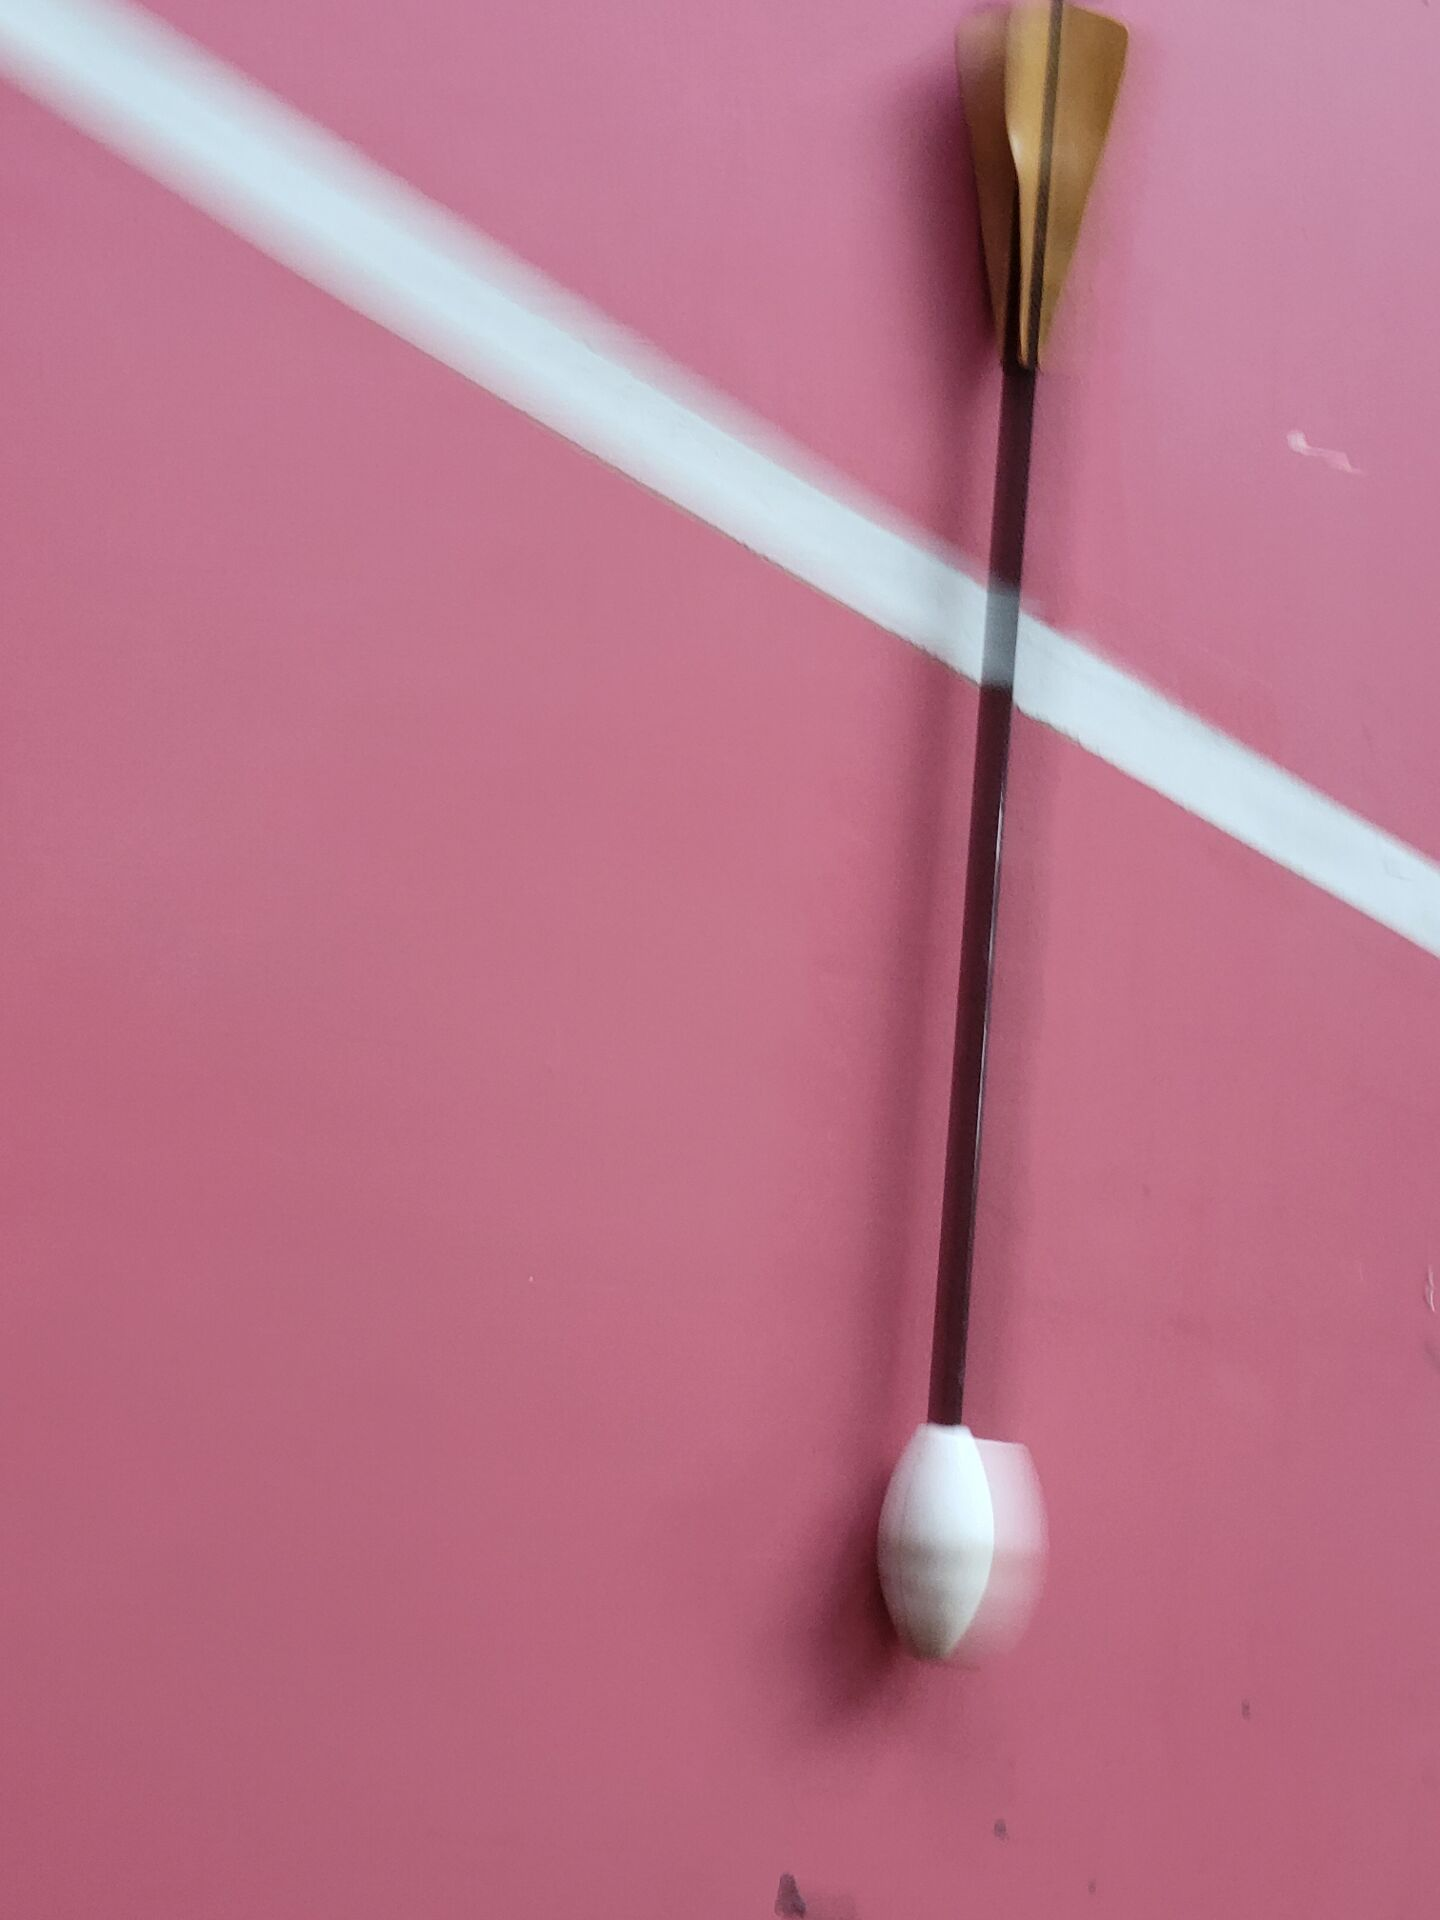arrow: (877, 6, 1131, 1672)
arrowFront: (880, 1414, 995, 1669)
